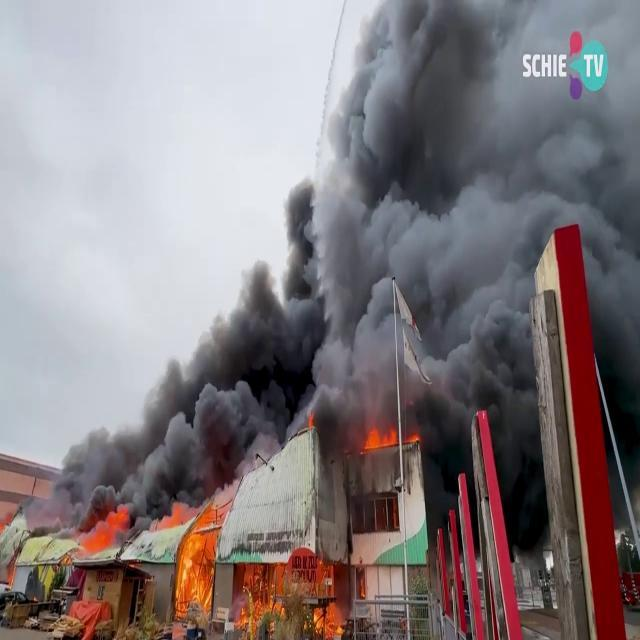Fire: (178, 491, 221, 628), (298, 548, 343, 638)
Smoke: (54, 4, 640, 503)
